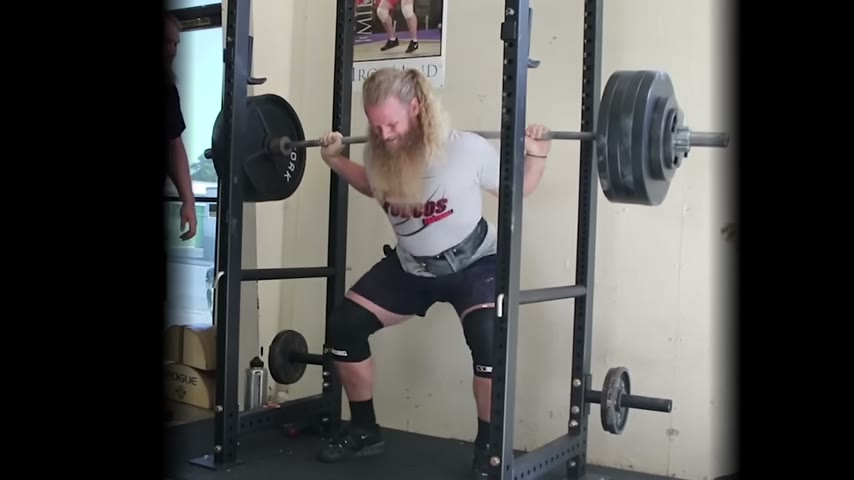barbell_plate_side: (646, 67, 728, 211), (212, 86, 293, 210)
